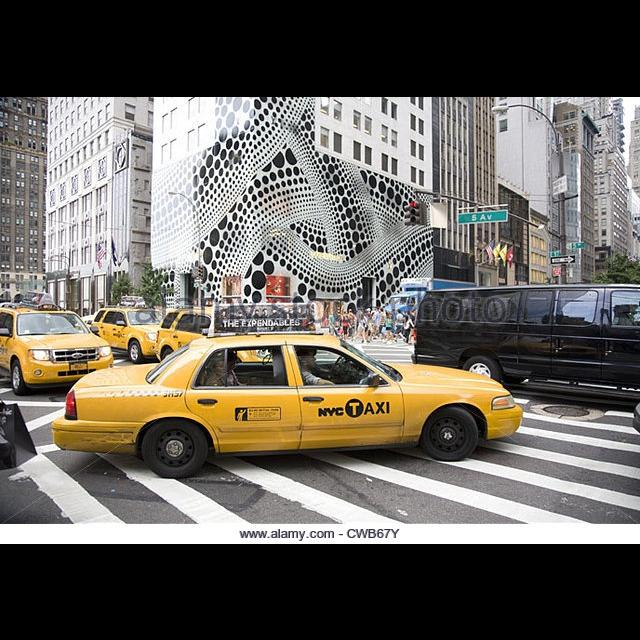head: (221, 350, 239, 374), (298, 348, 318, 368), (212, 358, 228, 376), (360, 313, 364, 319), (413, 308, 419, 312), (398, 309, 402, 313), (408, 310, 412, 314), (388, 314, 392, 318), (381, 308, 385, 312), (370, 314, 374, 318)
person: (294, 344, 342, 434), (214, 349, 250, 435), (208, 357, 236, 431), (394, 306, 408, 342), (402, 310, 414, 342), (384, 312, 396, 343), (355, 312, 367, 343), (378, 308, 389, 340), (364, 312, 376, 341), (409, 306, 418, 340)
